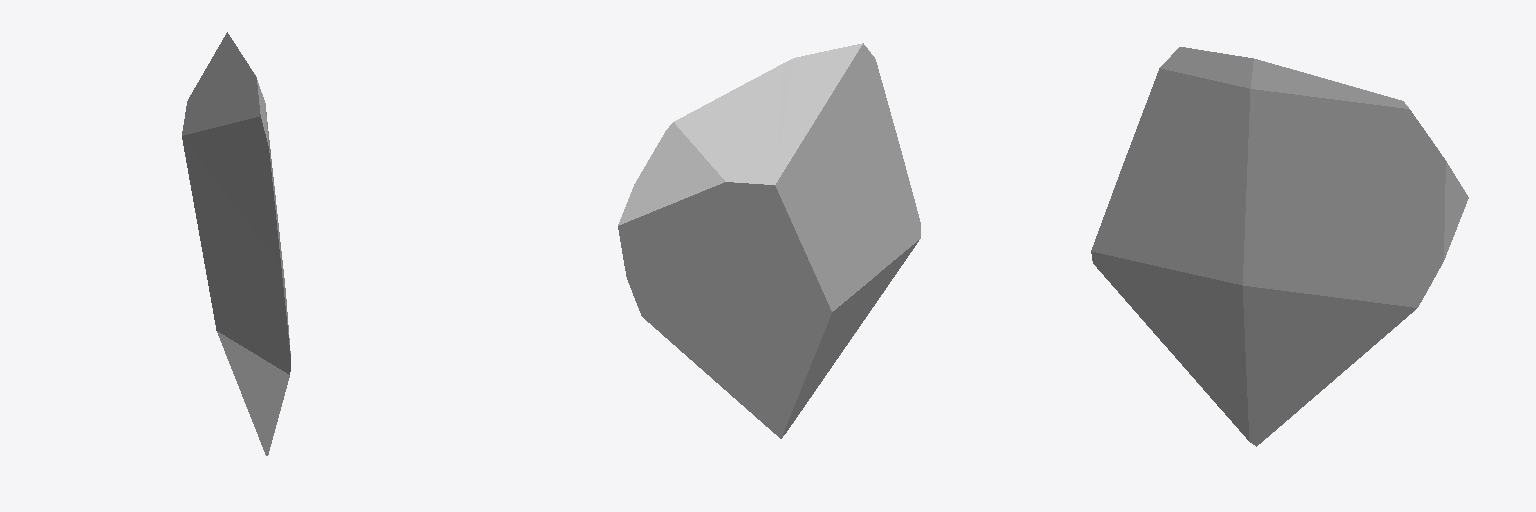
File: Sphere_Cell_Fracture57.obj
3 renders of one model, left to right at view 1: azimuth 30°, elevation 25°; view 2: azimuth 150°, elevation 25°; view 3: azimuth 270°, elevation 25°, orthographic.
Size of the model in its own units: 0.1285 by 0.3957 by 0.354.